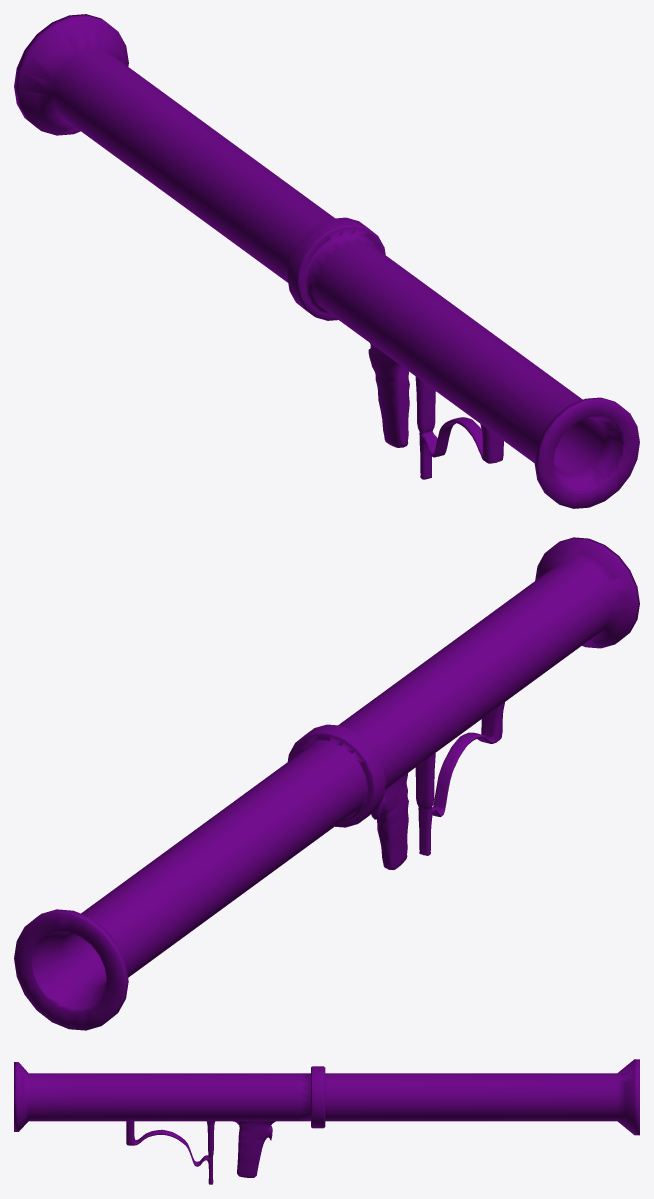
Rendered from BazookaPurple.fbx.
3 views of the same model, one above another, from view 1: azimuth 30°, elevation 25°; view 2: azimuth 150°, elevation 25°; view 3: azimuth 270°, elevation 25° (orthographic). The views are drawn at different scales.
Visible parts, largest first — view 1: pPipe1; view 2: pPipe1; view 3: pPipe1.
Part boxes in pixels (x1=…): pPipe1: x1=14, y1=14, x2=639, y2=508; pPipe1: x1=14, y1=537, x2=639, y2=1030; pPipe1: x1=14, y1=1059, x2=639, y2=1184.
Size of the model in its own units: 4.62 by 8.06 by 37.75.
